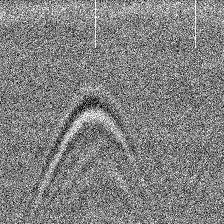Utility: (39, 87, 136, 199)
